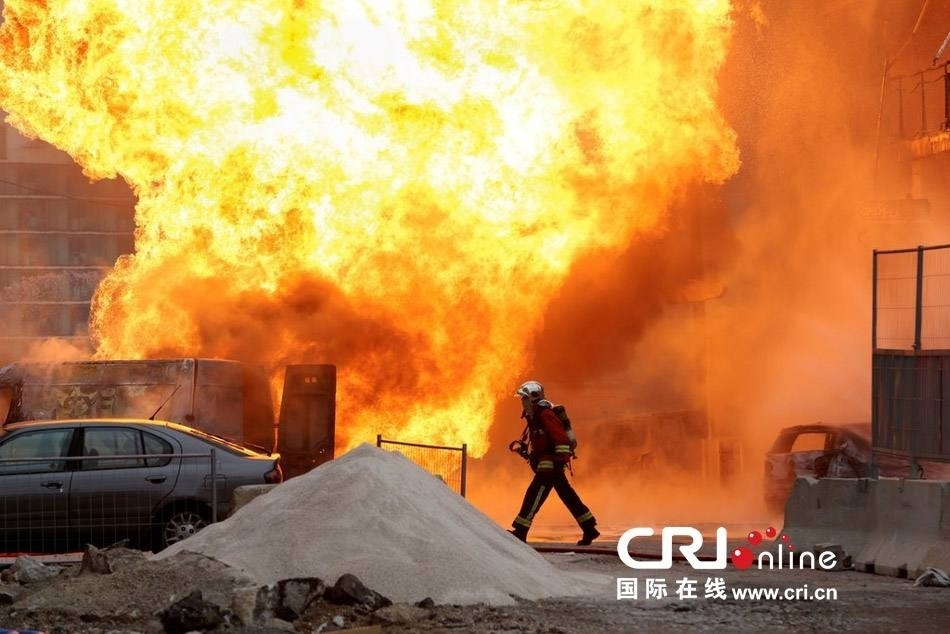fire: (39, 0, 767, 500)
